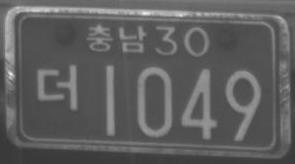0: (134, 65, 174, 139), (182, 25, 210, 58)
1: (98, 63, 124, 138)
3: (153, 24, 177, 57)
4: (179, 67, 217, 141)
9: (224, 68, 262, 142)
더: (34, 61, 79, 113)
충남_O: (86, 22, 147, 54)
